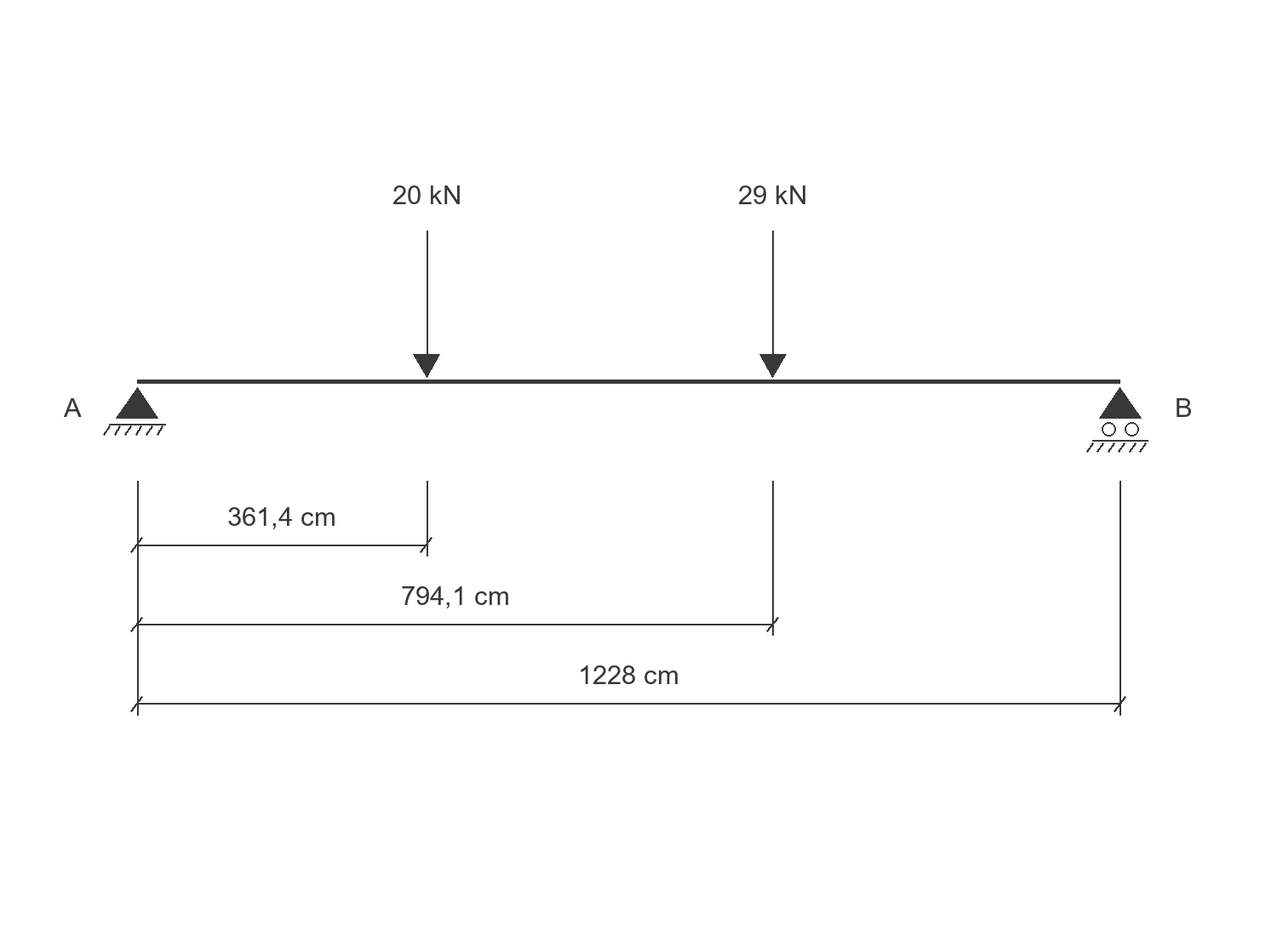pin_support: (103, 387, 166, 436)
point_load: (759, 231, 787, 378), (413, 231, 440, 378)
roller_support: (1086, 387, 1148, 453)
